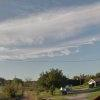Tree: (36, 59, 69, 97)
